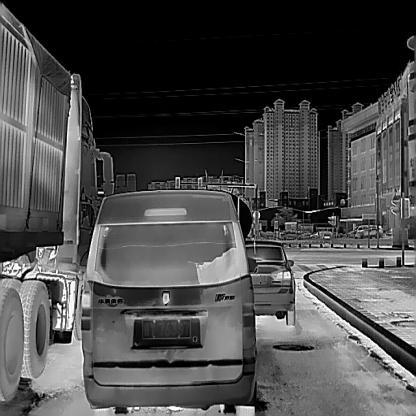car: (0, 1, 113, 401), (79, 188, 256, 415), (243, 239, 295, 325), (359, 226, 382, 237)
